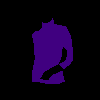maglione: (31, 18, 73, 84)
